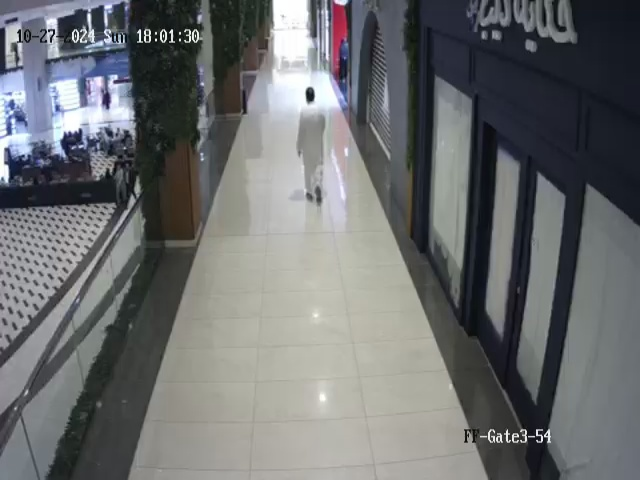male: (296, 87, 326, 204)
other: (336, 34, 352, 86)
